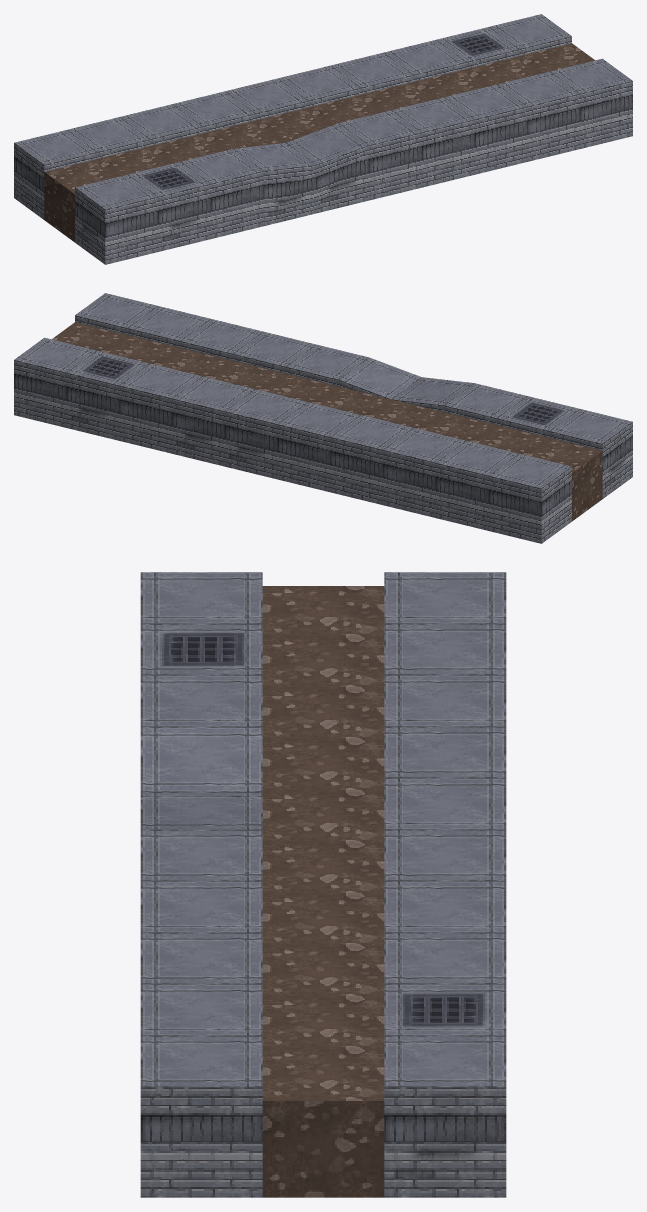
File: road_a.gltf
3 views of the same model, one above another, from view 1: azimuth 30°, elevation 25°; view 2: azimuth 150°, elevation 25°; view 3: azimuth 270°, elevation 25° (orthographic). The views are drawn at different scales.
Parts seen in each view (by area): view 1: road_a; view 2: road_a; view 3: road_a.
Part boxes in pixels (x1,y1,x2,y2): road_a: [14, 14, 632, 264]; road_a: [14, 293, 632, 543]; road_a: [140, 572, 506, 1197].
Bounding box in the file's own units: 10 × 1 × 3.
Materials: 1 (1 with a texture image).
